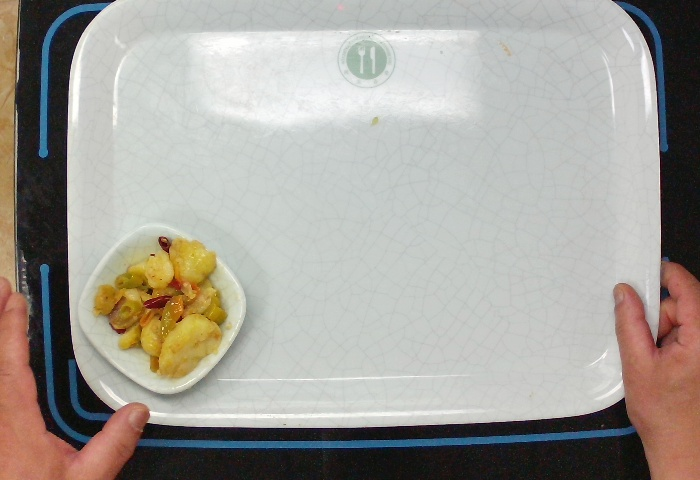JYsf-Si_Fang_Die: (72, 220, 252, 399)
